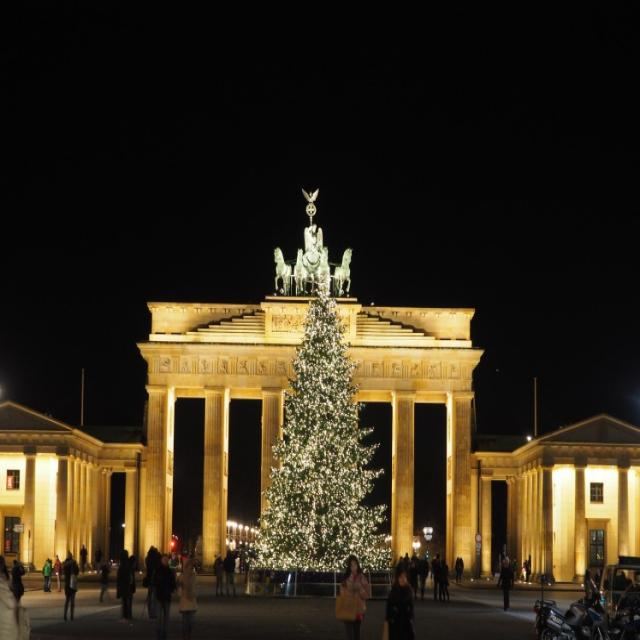body: (332, 552, 371, 639), (0, 554, 35, 640), (384, 567, 416, 640), (152, 552, 177, 639), (177, 558, 200, 640), (116, 546, 138, 623), (59, 548, 80, 622), (144, 544, 162, 621), (496, 554, 514, 612), (398, 549, 418, 598), (10, 556, 26, 612), (167, 549, 201, 575), (221, 549, 238, 598), (431, 552, 444, 602), (417, 552, 430, 601), (437, 556, 450, 604), (513, 553, 533, 584), (98, 562, 112, 604), (212, 552, 224, 598), (41, 556, 51, 592), (54, 554, 62, 594), (80, 544, 89, 575), (94, 546, 104, 572), (237, 550, 246, 574), (46, 558, 52, 593), (458, 556, 464, 582), (454, 555, 459, 584)
